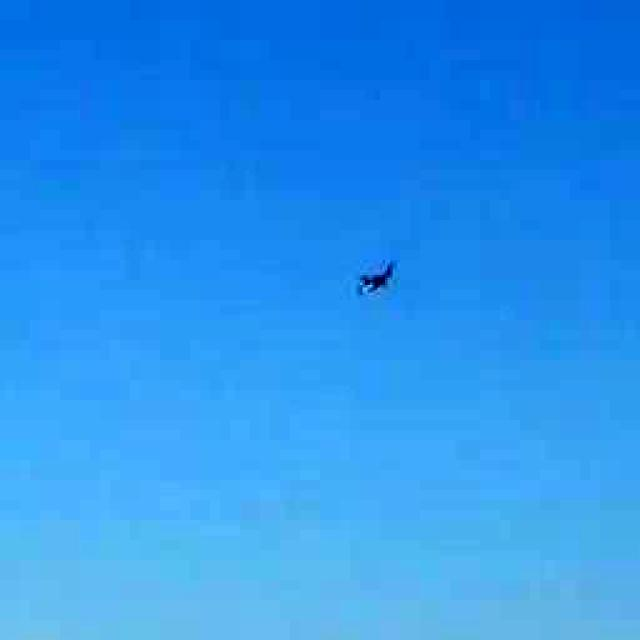bird: (341, 246, 416, 321)
